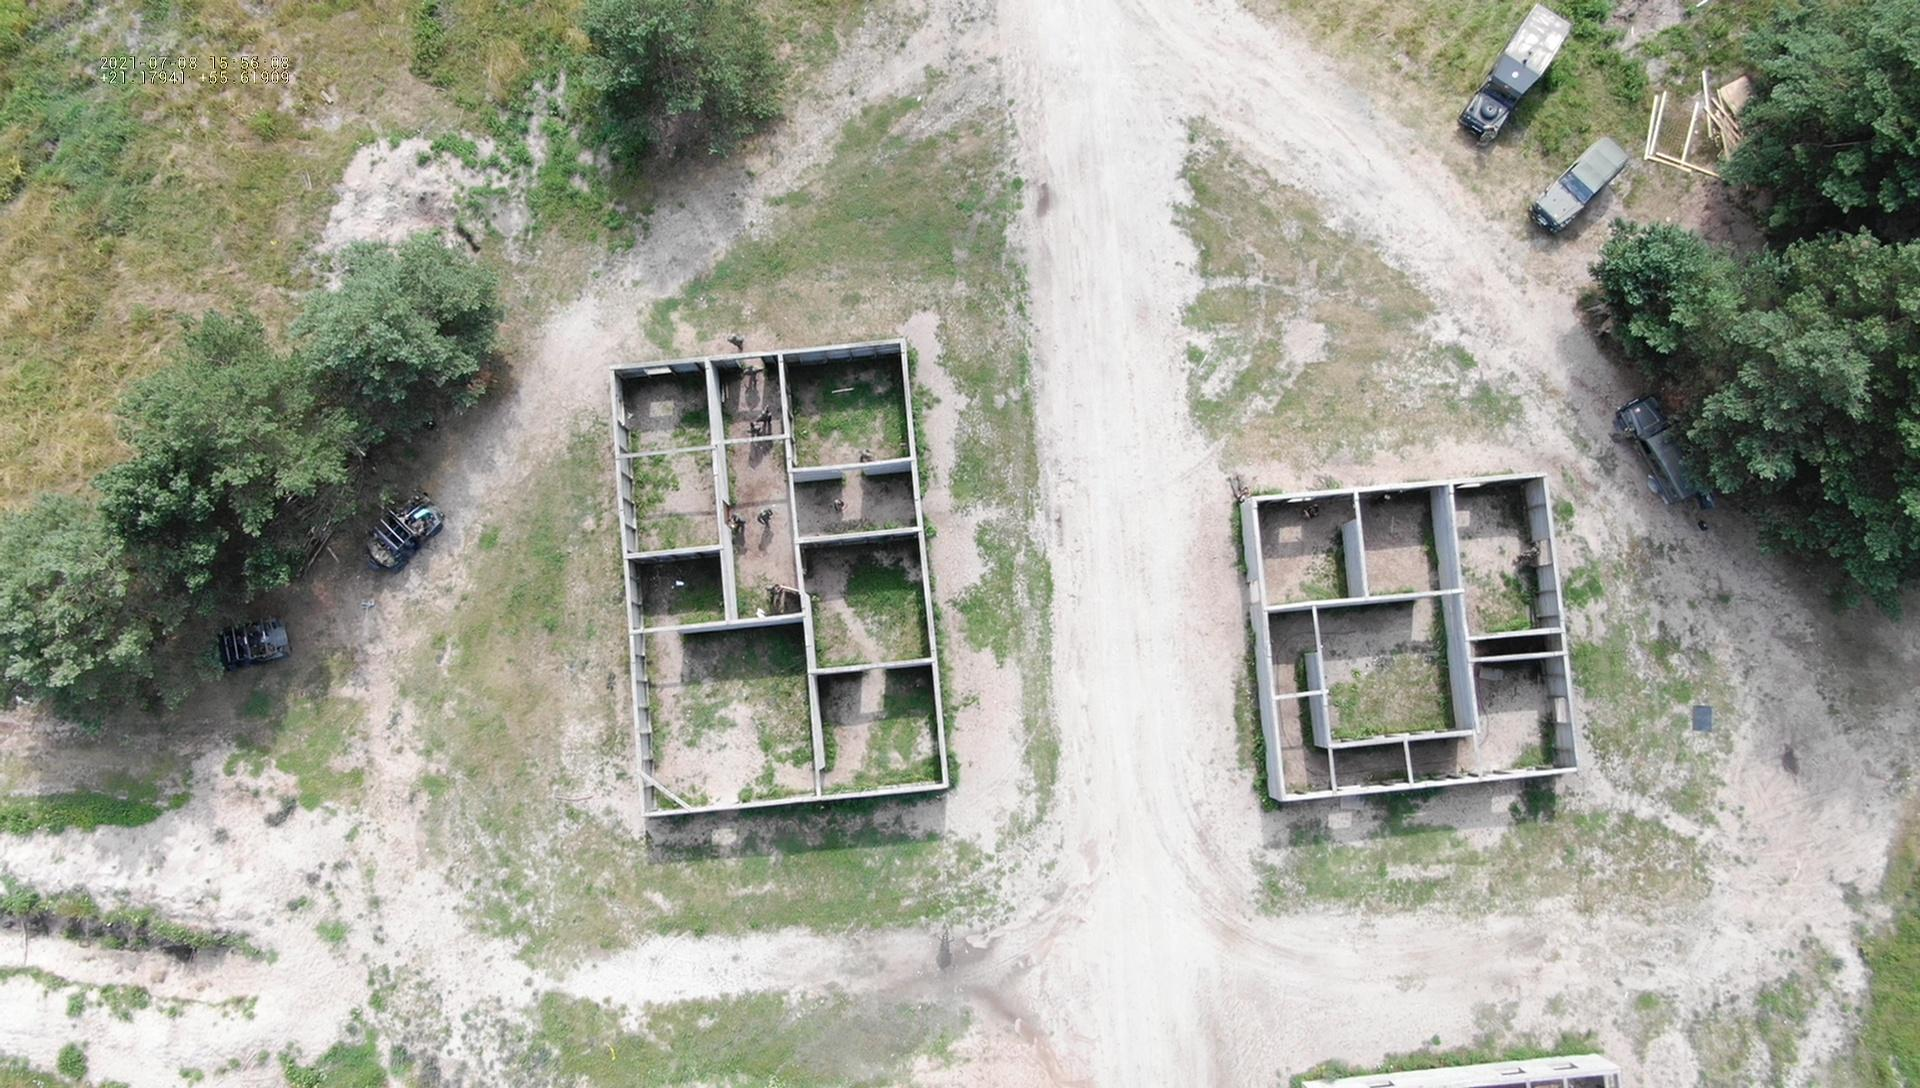Soldier: (1097, 720, 1247, 899), (953, 124, 1072, 297), (1402, 156, 1497, 241), (1033, 204, 1098, 295), (829, 491, 897, 578), (800, 384, 862, 469), (655, 384, 738, 446), (934, 964, 993, 1038), (585, 419, 651, 484), (1015, 539, 1072, 597)
